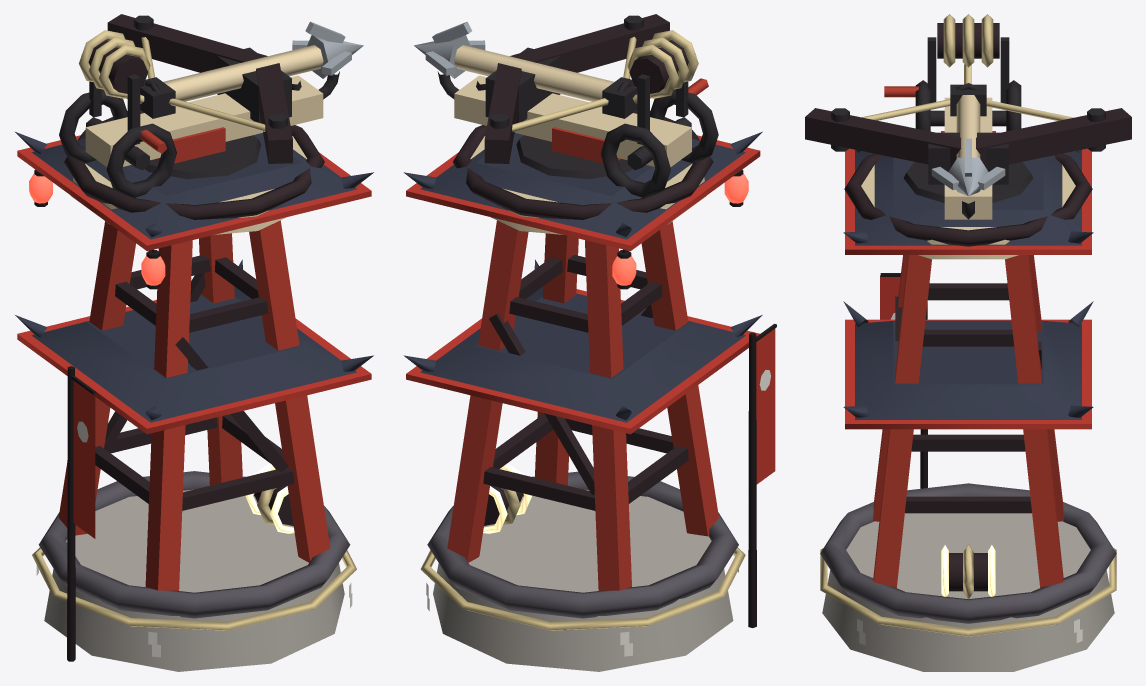
The model's file is tower_ballista_harpoon.glb.
3 views of the same model, side by side, from view 1: azimuth 30°, elevation 25°; view 2: azimuth 150°, elevation 25°; view 3: azimuth 270°, elevation 25° (orthographic). The views are drawn at different scales.
Visible parts, largest first — view 1: base, deco_eave_1_roof, base_rim, leg_wn, leg_en, deco_eave_0_roof, stock, deco_eave_1_rim, deck_rim, deco_eave_0_rim, leg_ws, bow_arm_r (+34 smaller); view 2: base, deco_eave_1_roof, base_rim, leg_ws, leg_es, deco_eave_0_roof, leg_wn, stock, deco_eave_1_rim, deck_rim, deco_eave_0_rim, bow_arm_l (+33 smaller); view 3: base, deco_eave_1_roof, base_rim, deco_eave_0_roof, leg_en, leg_es, deck_rim, deco_eave_1_rim, bow_arm_l, bow_arm_r, deco_eave_0_rim, deco_shimenawa_rope (+28 smaller).
Part boxes in pixels (<box>): base: <box>44,489,344,671</box>; deco_eave_1_roof: <box>32,286,356,422</box>; base_rim: <box>38,471,350,618</box>; leg_wn: <box>145,240,192,590</box>; leg_en: <box>249,220,330,562</box>; deco_eave_0_roof: <box>32,133,356,239</box>; stock: <box>85,75,323,166</box>; deco_eave_1_rim: <box>17,300,371,434</box>; deck_rim: <box>64,110,324,219</box>; deco_eave_0_rim: <box>17,135,371,250</box>; leg_ws: <box>58,221,135,535</box>; bow_arm_r: <box>107,14,267,72</box>; base: <box>433,489,733,671</box>; deco_eave_1_roof: <box>420,286,745,422</box>; base_rim: <box>427,471,738,618</box>; leg_ws: <box>585,240,631,590</box>; leg_es: <box>447,220,528,562</box>; deco_eave_0_roof: <box>420,133,745,239</box>; leg_wn: <box>641,221,718,536</box>; stock: <box>454,75,691,167</box>; deco_eave_1_rim: <box>406,289,759,434</box>; deck_rim: <box>453,110,713,219</box>; deco_eave_0_rim: <box>406,135,760,251</box>; bow_arm_l: <box>510,14,669,72</box>; base: <box>822,513,1114,671</box>; deco_eave_1_roof: <box>855,320,1081,419</box>; base_rim: <box>820,483,1116,623</box>; deco_eave_0_roof: <box>855,149,1081,245</box>; leg_en: <box>873,255,931,587</box>; leg_es: <box>1005,255,1063,587</box>; deck_rim: <box>844,153,1092,246</box>; deco_eave_1_rim: <box>845,319,1091,429</box>; bow_arm_l: <box>805,108,960,168</box>; bow_arm_r: <box>976,108,1131,168</box>; deco_eave_0_rim: <box>845,148,1091,254</box>; deco_shimenawa_rope: <box>820,548,1116,636</box>.
Size of the model in its own units: 0.4807 by 0.847 by 0.4469.
